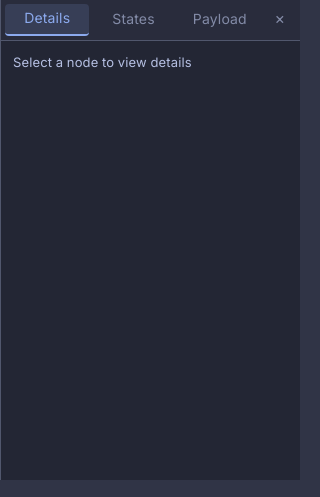
Scenario: InspectorSidebar › switches to payload tab
Click the button with test id "inspector-tab-payload" at (220, 20), box [178,4,262,36]
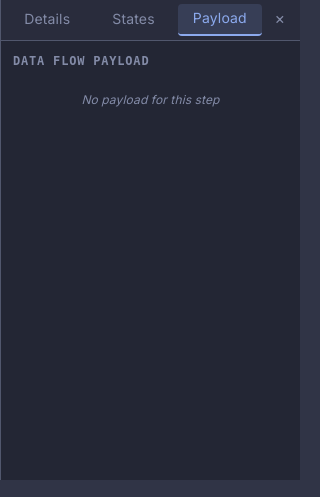
Now the element with test id "inspector-widget-payload" is shown, box [13,54,220,110]
